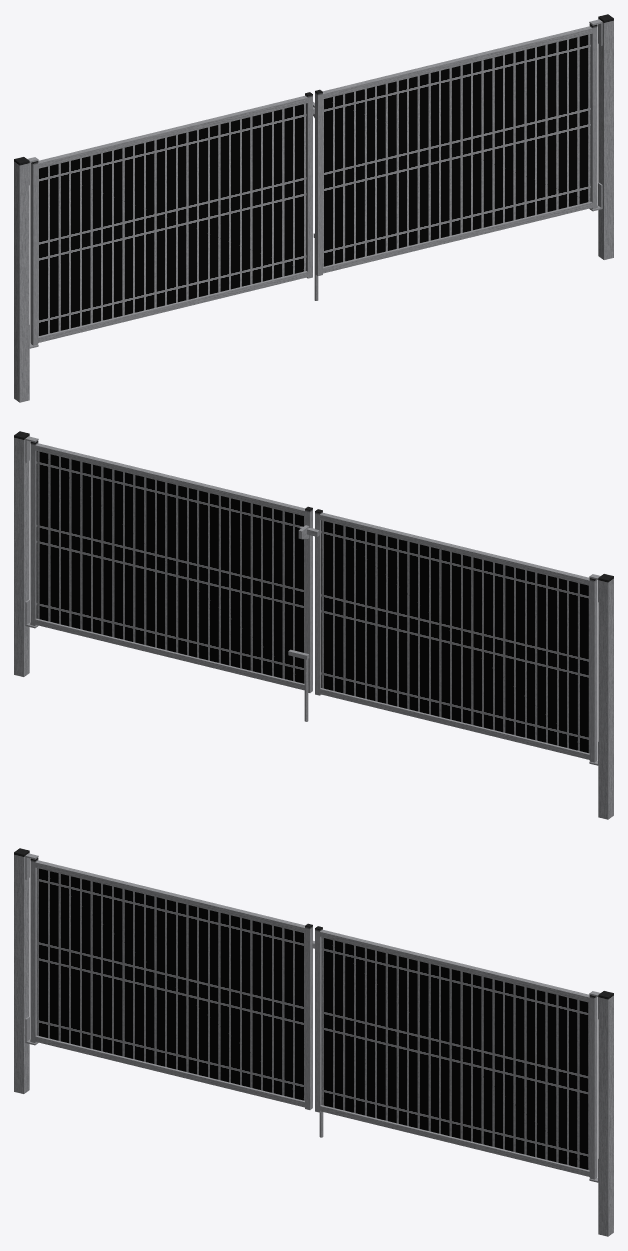
The model's file is fence-mesh-grey-gateX2-2m-cbj_LOD00.gltf.
The picture shows the model from 3 angles, top to bottom: view 1: azimuth 30°, elevation 25°; view 2: azimuth 150°, elevation 25°; view 3: azimuth 330°, elevation 25°; orthographic projection.
Parts seen in each view (by area): view 1: post; view 2: post; view 3: post.
Part boxes in pixels (x1,y1,x2,y2): post: (14, 14, 613, 402); post: (14, 431, 613, 819); post: (14, 848, 613, 1236).
Bounding box in the file's own units: 4.16 × 1.6 × 0.1406.
